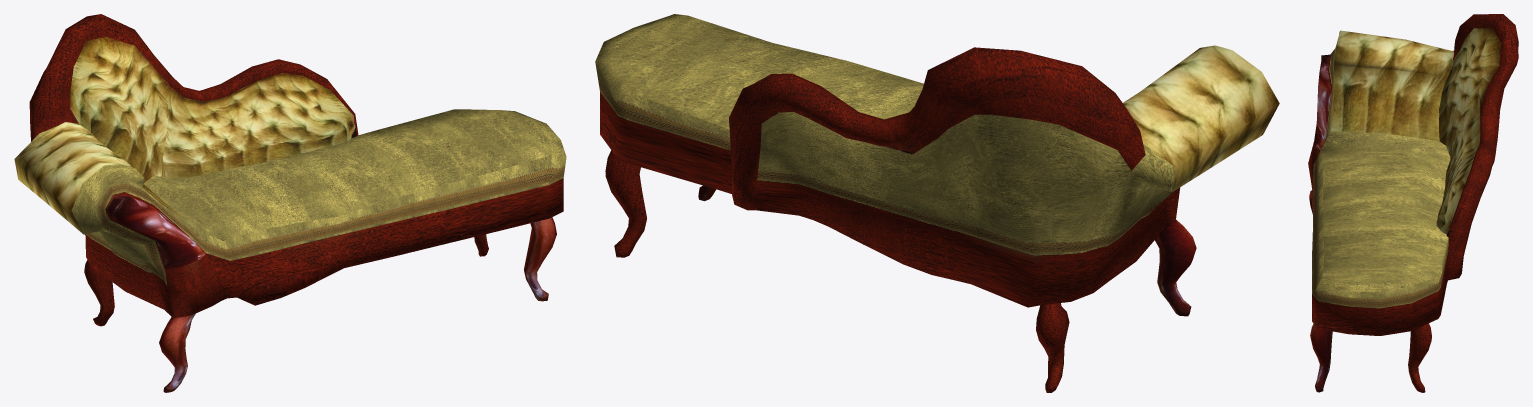
Rendered from ChaiseLounge_LOD.fbx.
3 views of the same model, side by side, from view 1: azimuth 30°, elevation 25°; view 2: azimuth 150°, elevation 25°; view 3: azimuth 270°, elevation 25° (orthographic). The views are drawn at different scales.
Visible parts, largest first — view 1: ChaiseLounge_LOD0; view 2: ChaiseLounge_LOD0; view 3: ChaiseLounge_LOD0.
Part boxes in pixels (x1,y1,x2,y2): ChaiseLounge_LOD0: (14, 14, 566, 392); ChaiseLounge_LOD0: (595, 14, 1279, 392); ChaiseLounge_LOD0: (1308, 14, 1518, 392).
Size of what is drawn, in the model's own units: 218 by 117 by 96.18.
